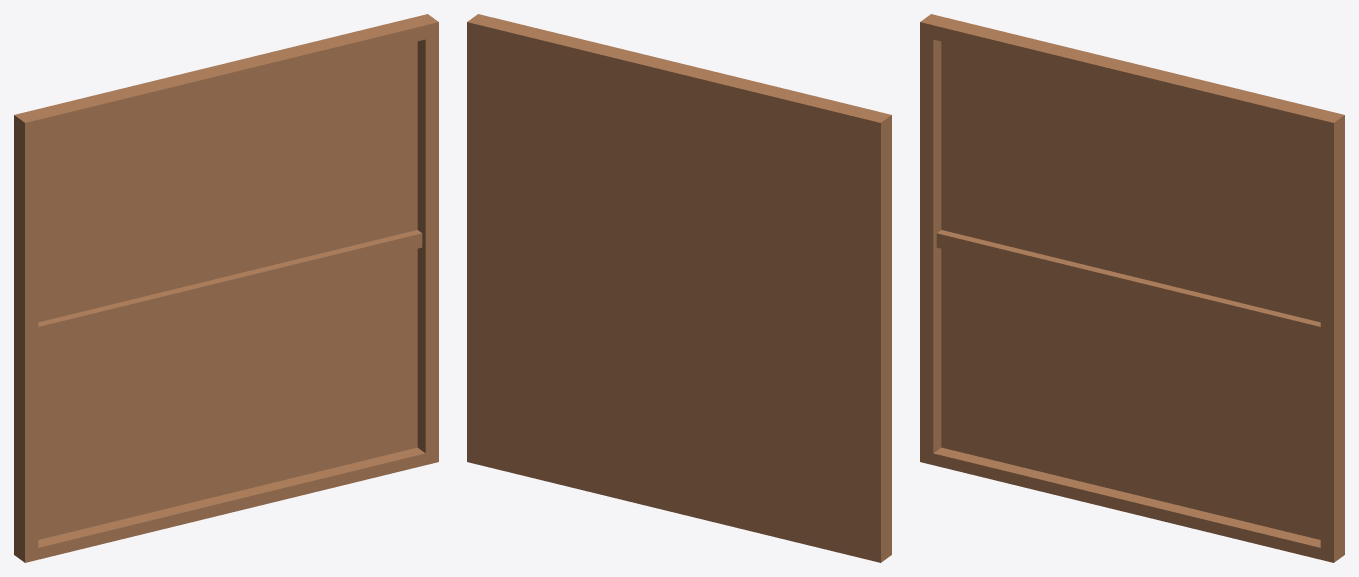
The model's file is Panel4by4.fbx.
The picture shows the model from 3 angles, left to right: view 1: azimuth 30°, elevation 25°; view 2: azimuth 150°, elevation 25°; view 3: azimuth 330°, elevation 25°; orthographic projection.
Parts seen in each view (by area): view 1: Panel4by4; view 2: Panel4by4; view 3: Panel4by4.
Part boxes in pixels (left/top/right/bottom): Panel4by4: left=14, top=14, right=438, bottom=562; Panel4by4: left=467, top=14, right=891, bottom=562; Panel4by4: left=920, top=14, right=1344, bottom=562.
Size of the model in its own units: 112 by 5.2 by 114.
